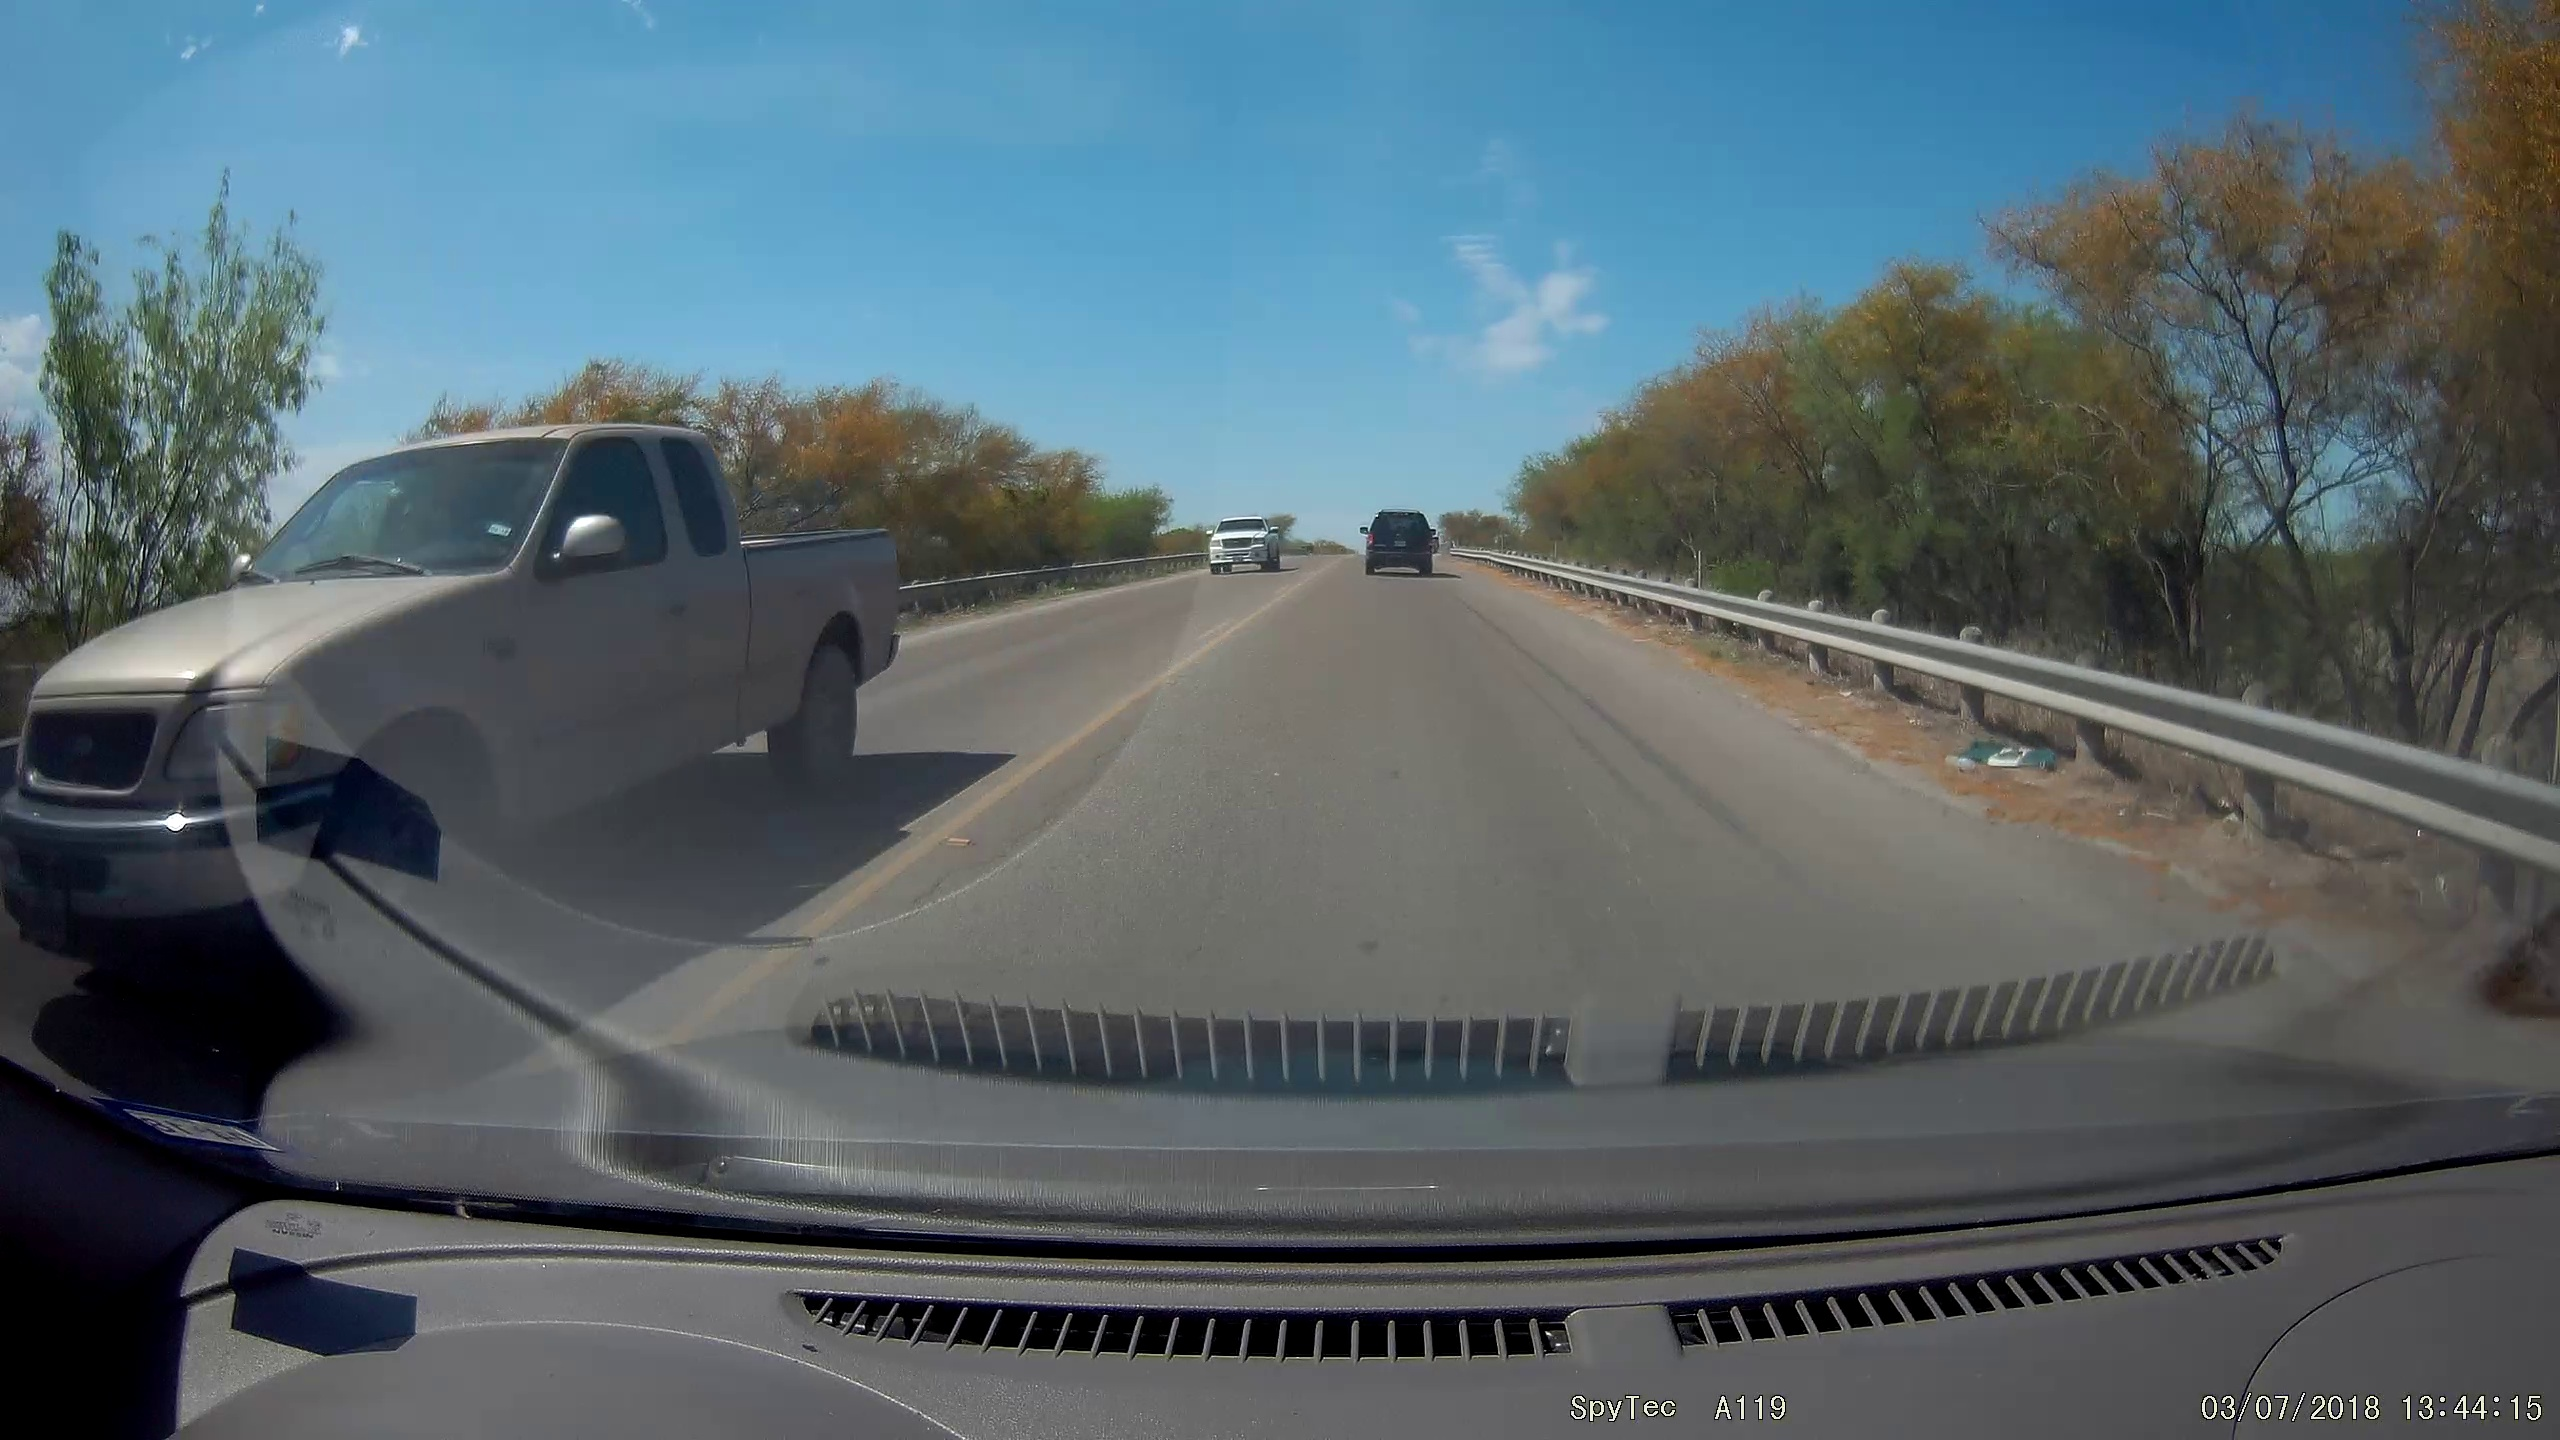crack: (907, 811, 1058, 923)
